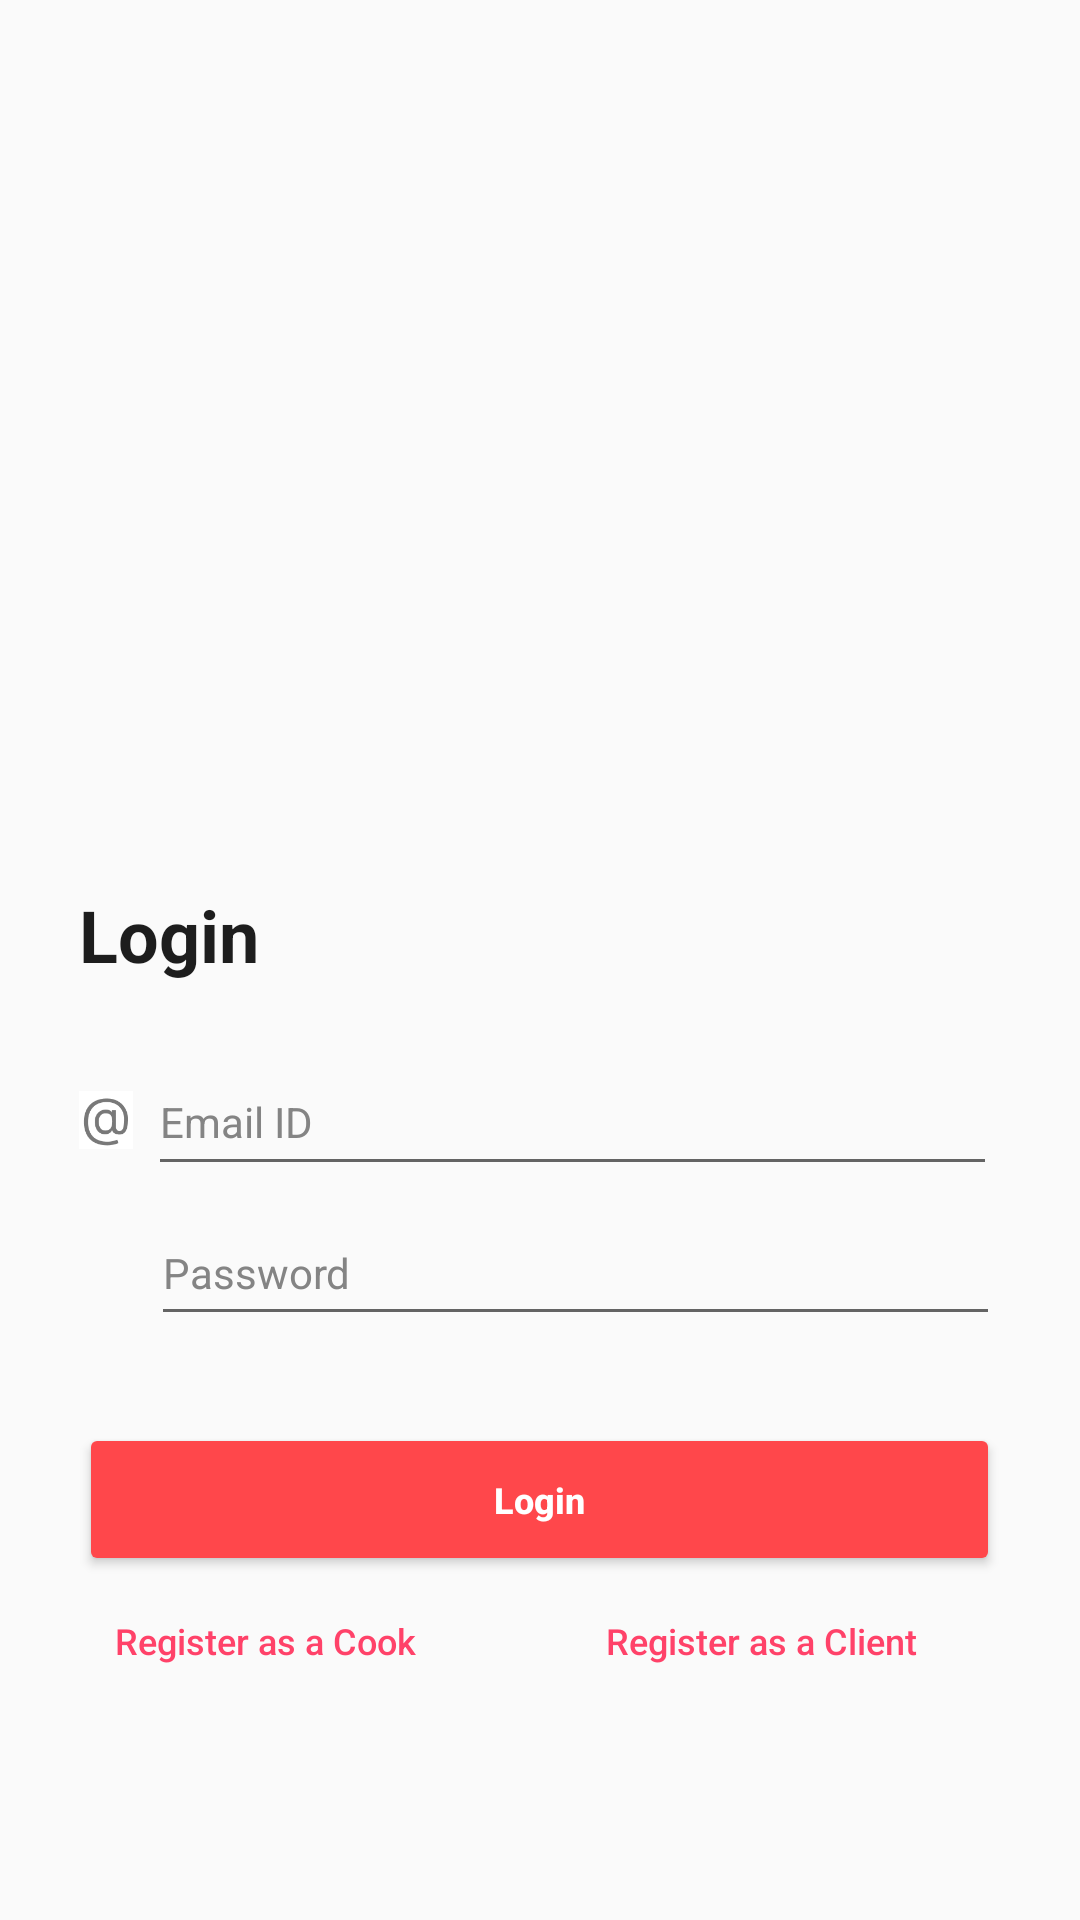

Icon click points for this 1080 × 1920 phone screenshot, format (x,y):
username: (106,1122)
